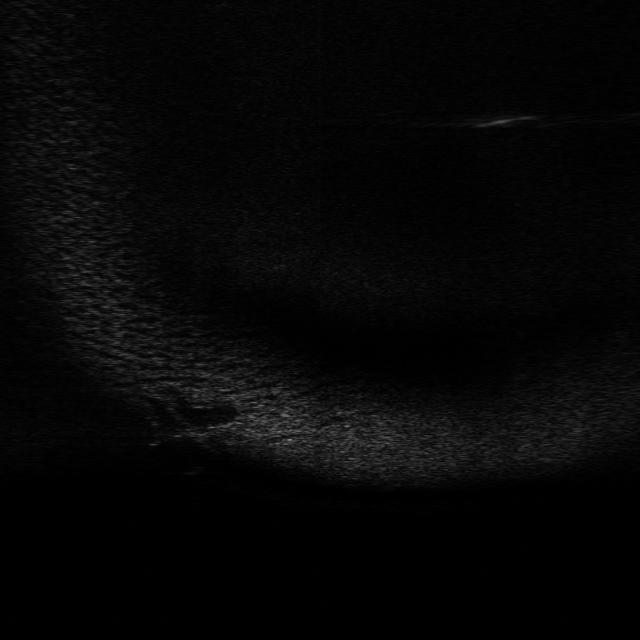plane: (146, 418, 234, 452)
